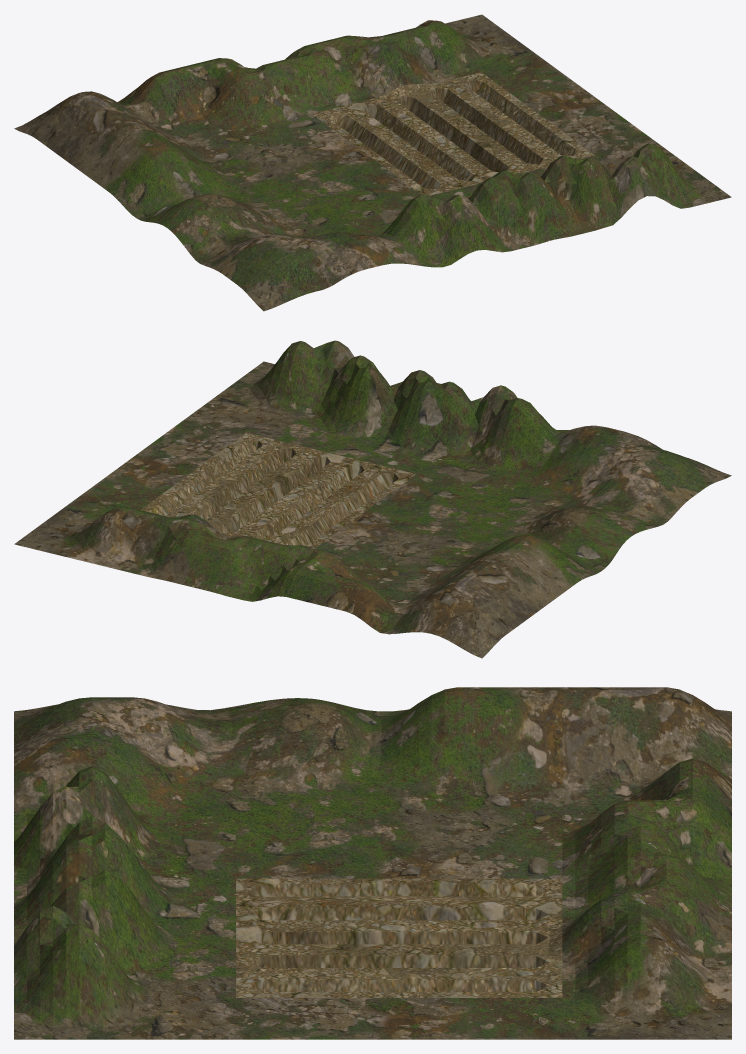
File: farm_terrain_big.dae
3 renders of one model, top to bottom at view 1: azimuth 30°, elevation 25°; view 2: azimuth 150°, elevation 25°; view 3: azimuth 270°, elevation 25°, orthographic. The views are drawn at different scales.
Visible parts, largest first — view 1: land_big; view 2: land_big; view 3: land_big.
Boxes of the visible parts, x1,y1,x2,y2 form: land_big: (14,14,731,311); land_big: (14,340,731,658); land_big: (14,687,731,1039).
Size of the model in its own units: 19.32 by 17.85 by 2.93.
2 materials, 2 textured.
